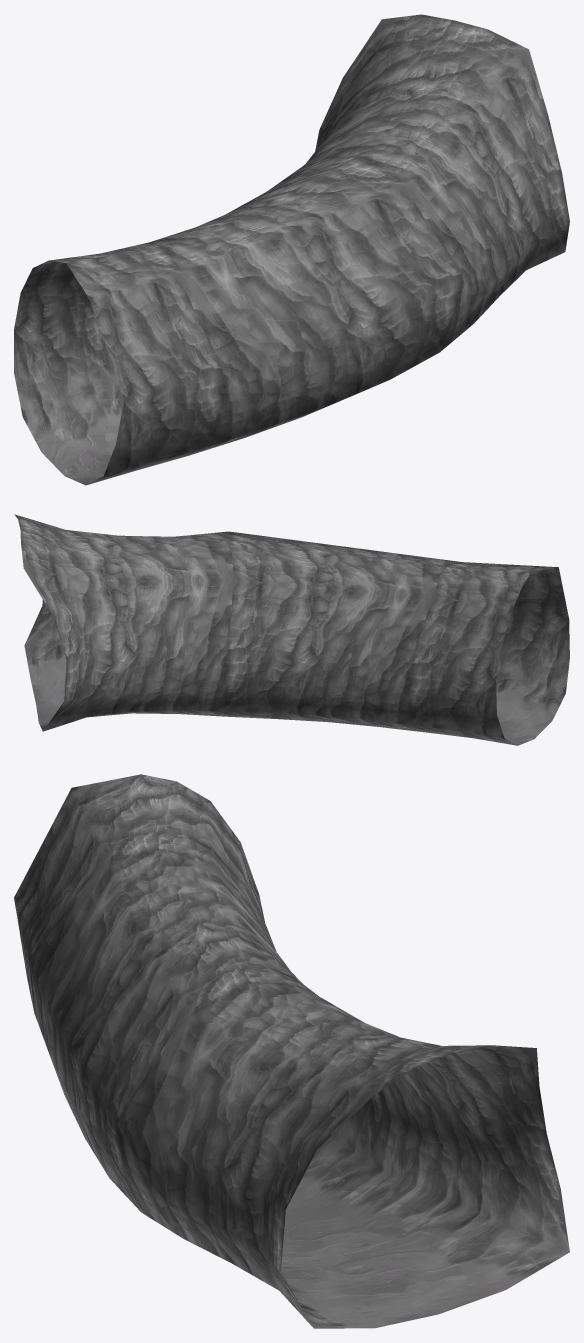
The model's file is SWORDLIGHT20_PS-AREA03-05TRANS_05.obj.
3 renders of one model, top to bottom at view 1: azimuth 30°, elevation 25°; view 2: azimuth 150°, elevation 25°; view 3: azimuth 270°, elevation 25°, orthographic. The views are drawn at different scales.
Parts seen in each view (by area): view 1: ea03-05Trans_05; view 2: ea03-05Trans_05; view 3: ea03-05Trans_05.
Boxes of the visible parts, <box> form: ea03-05Trans_05: <box>14,14,569,485</box>; ea03-05Trans_05: <box>14,514,569,745</box>; ea03-05Trans_05: <box>14,774,569,1328</box>.
Bounding box in the file's own units: 1673 × 664 × 1157.
